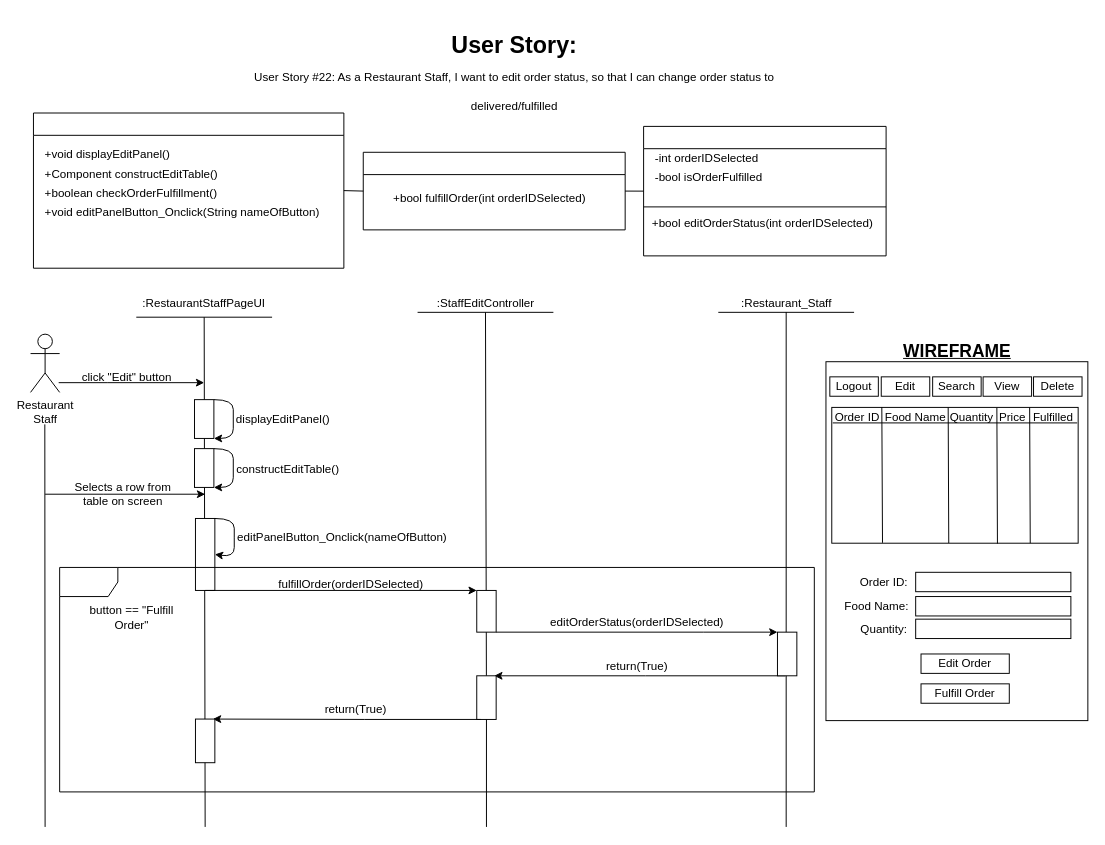
Image size: 1105x845. Some labels were removed from this diagram. The shapes that lost their labels are listed below. From the top down, each one's box as (x1, y1, x2, y2) in pixels, then its label:
(32, 112, 344, 268): RestaurantStaffPageUI
(362, 151, 625, 230): StaffEditController
(643, 125, 886, 256): Restaurant_Staff
(59, 566, 814, 792): Case
